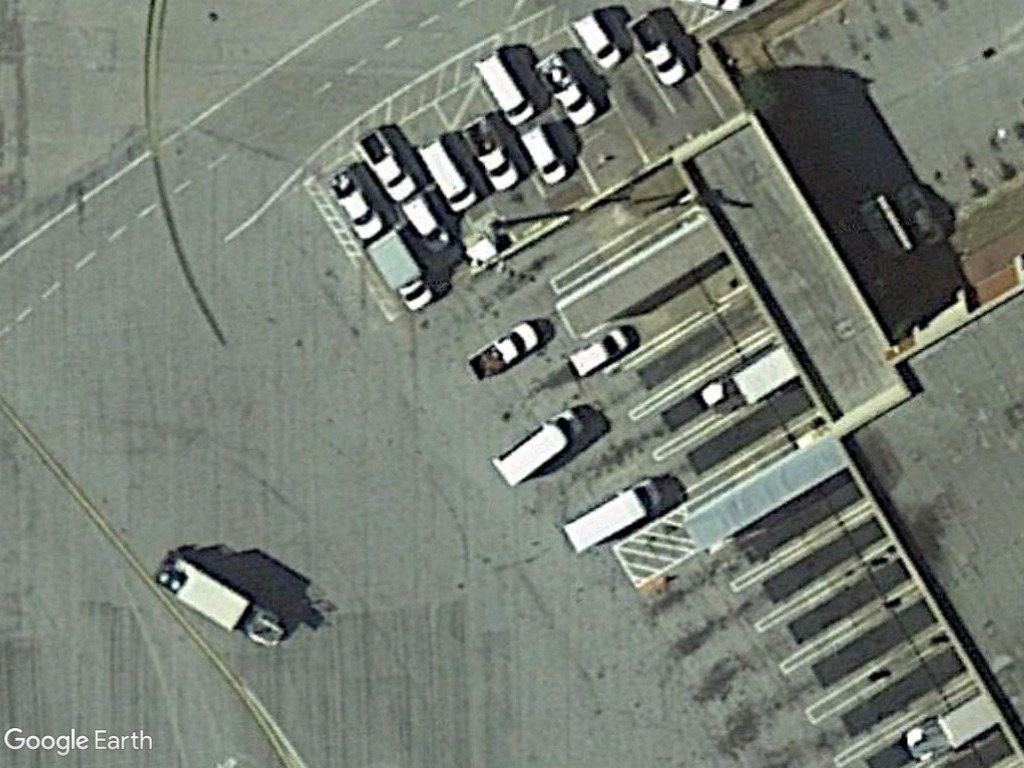car: (565, 323, 628, 380)
other: (529, 44, 602, 126), (352, 128, 423, 206), (626, 7, 690, 91), (467, 319, 544, 381), (325, 163, 385, 242)
truck: (362, 230, 439, 317)
van: (556, 472, 667, 561), (482, 403, 589, 491), (416, 134, 479, 215), (473, 49, 535, 129), (516, 118, 572, 185), (566, 8, 626, 68)
